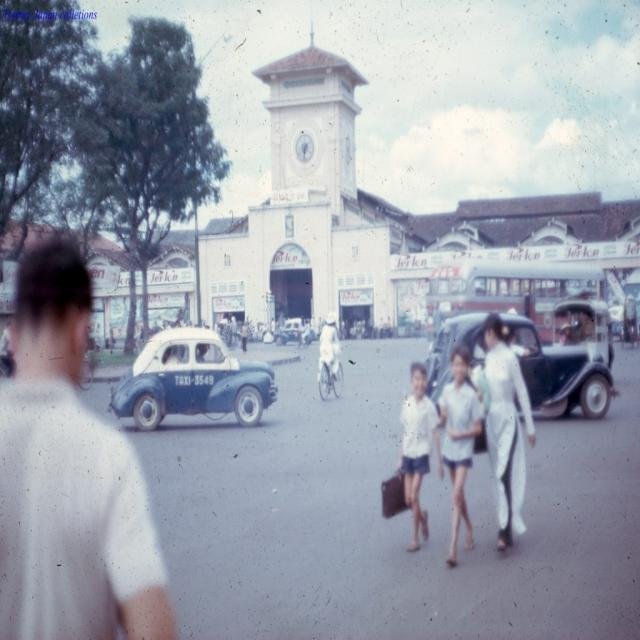car: (107, 325, 289, 441)
